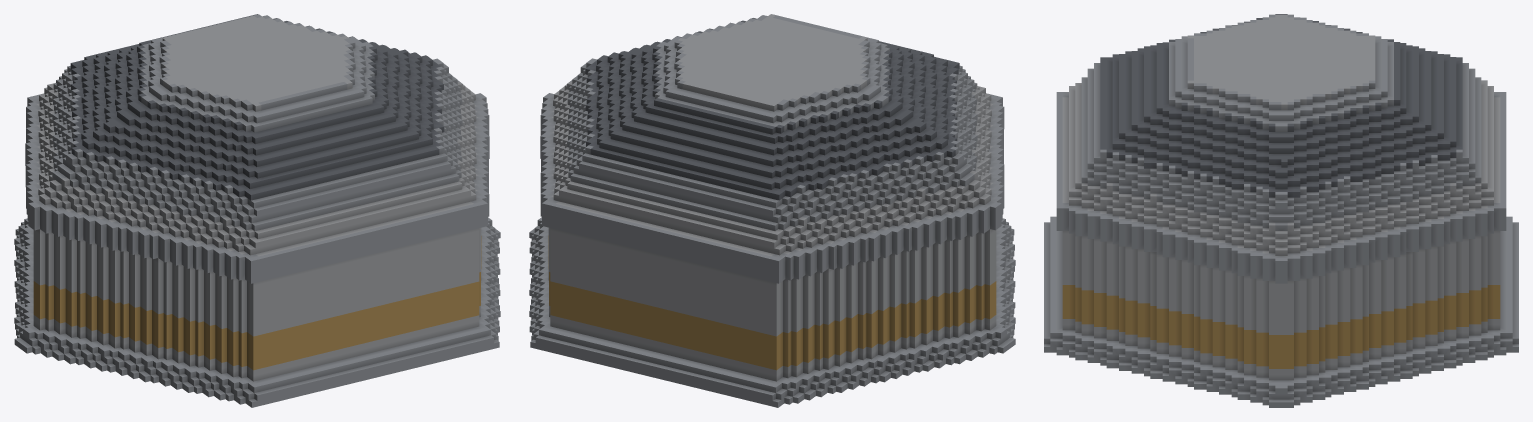
Rendered from hangar.glb.
3 renders of one model, left to right at view 1: azimuth 30°, elevation 25°; view 2: azimuth 150°, elevation 25°; view 3: azimuth 270°, elevation 25°, orthographic.
Parts seen in each view (by area): view 1: voxels; view 2: voxels; view 3: voxels.
Part boxes in pixels (x1,y1,x2,y2): voxels: (14, 14, 500, 407); voxels: (529, 14, 1015, 407); voxels: (1044, 14, 1518, 407).
Size of the model in its own units: 3.3 by 1.54 by 2.85.
